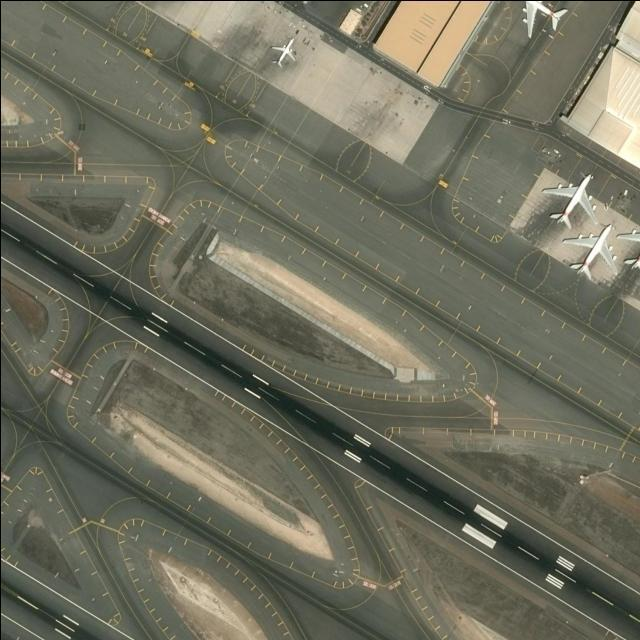Aircraft: (563, 219, 619, 280), (541, 169, 599, 226), (511, 0, 567, 36), (616, 220, 640, 272), (268, 36, 296, 66)
